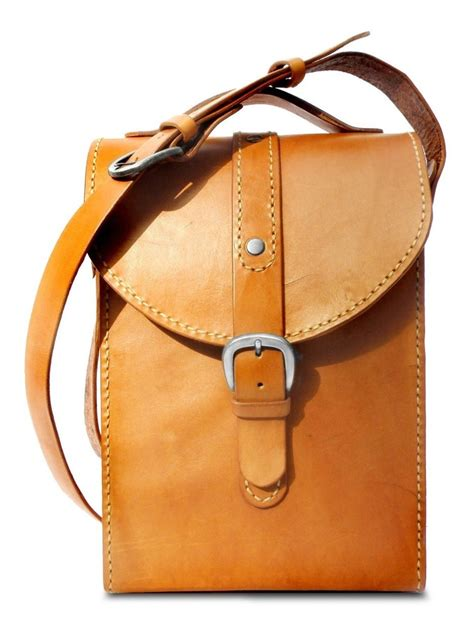cuero: (29, 28, 450, 600)
